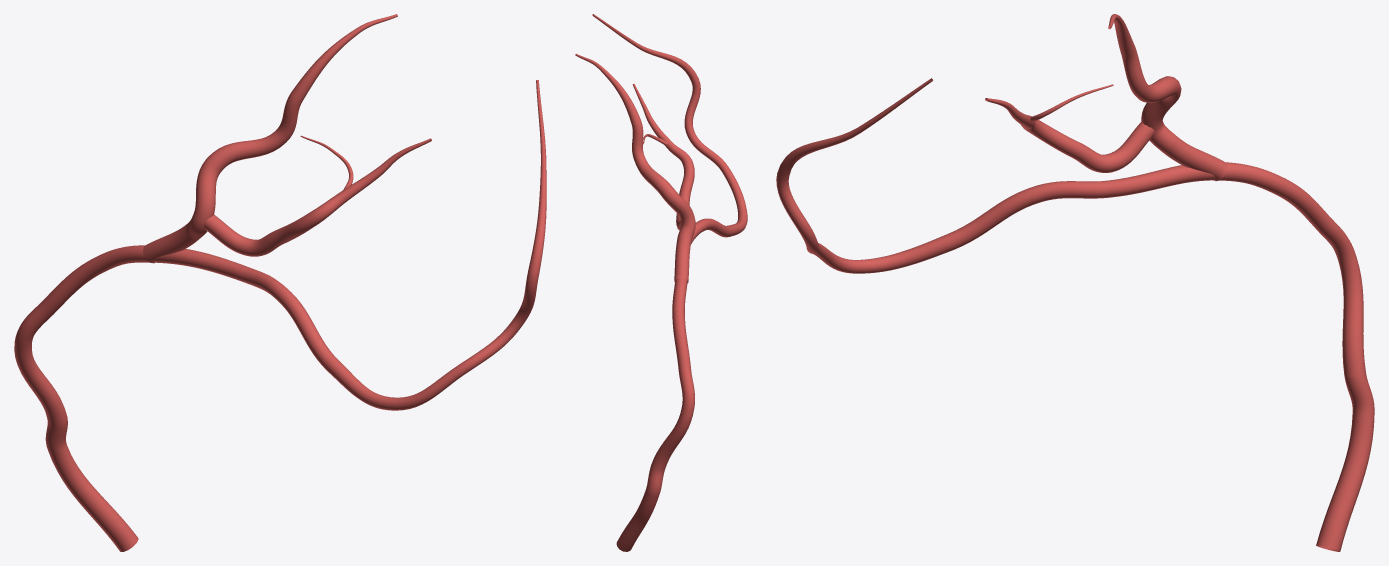
3 renders of one model, left to right at view 1: azimuth 30°, elevation 25°; view 2: azimuth 150°, elevation 25°; view 3: azimuth 270°, elevation 25°, orthographic. The views are drawn at different scales.
Visible parts, largest first — view 1: 右侧顶后动脉; view 2: 右侧顶后动脉; view 3: 右侧顶后动脉.
Boxes of the visible parts, bbox=[...] form: 右侧顶后动脉: bbox=[14, 14, 546, 551]; 右侧顶后动脉: bbox=[575, 14, 747, 551]; 右侧顶后动脉: bbox=[776, 14, 1374, 551].
Size of the model in its own units: 0.039 by 0.064 by 0.0562.
